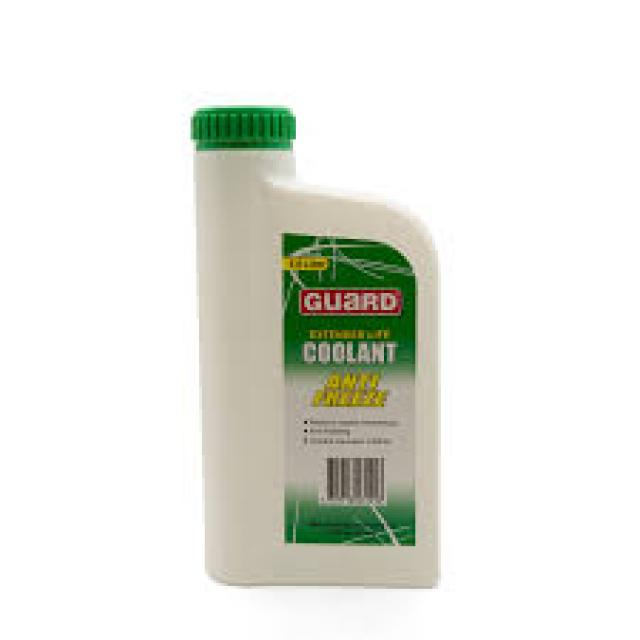coolant: (177, 98, 444, 598)
